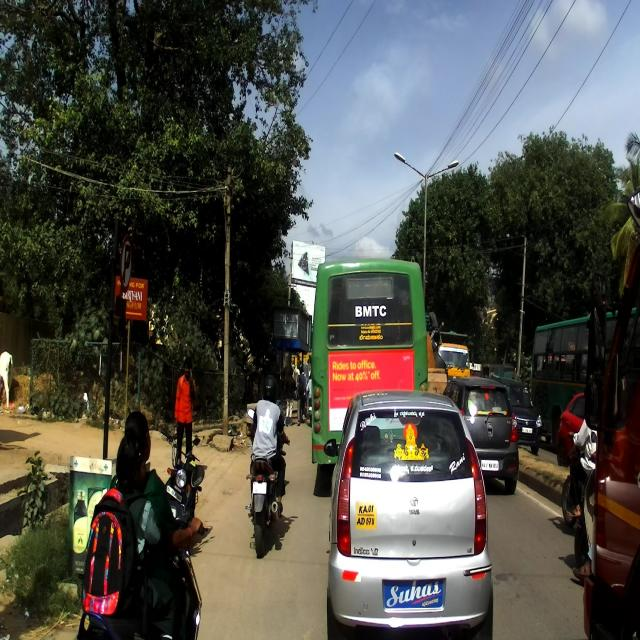bus: (311, 258, 428, 476), (530, 306, 636, 447)
car: (324, 388, 495, 639), (443, 376, 519, 497)
motorcycle: (246, 407, 290, 555), (158, 428, 204, 534)
